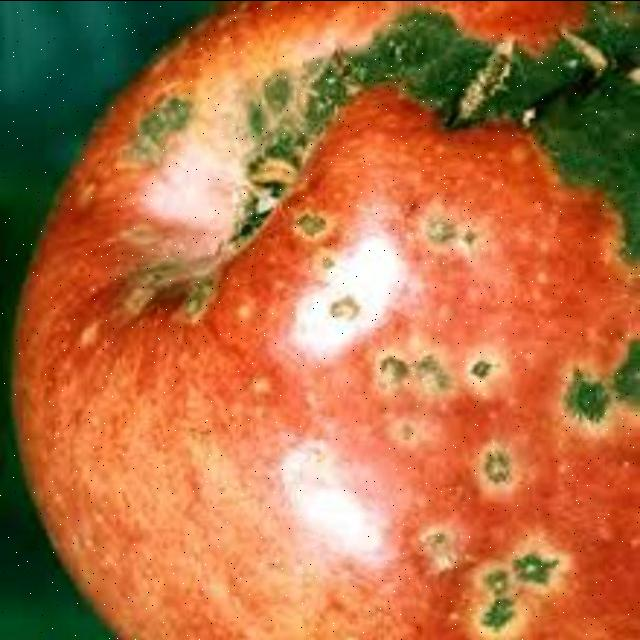SCAB: (35, 2, 637, 624)
